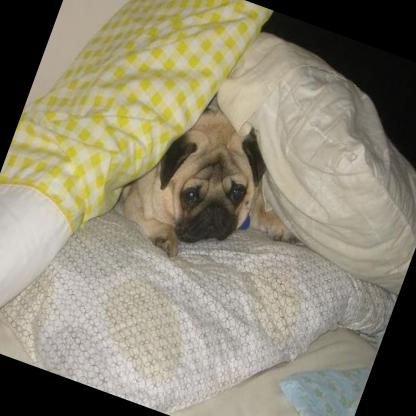pug: (102, 89, 332, 298)
